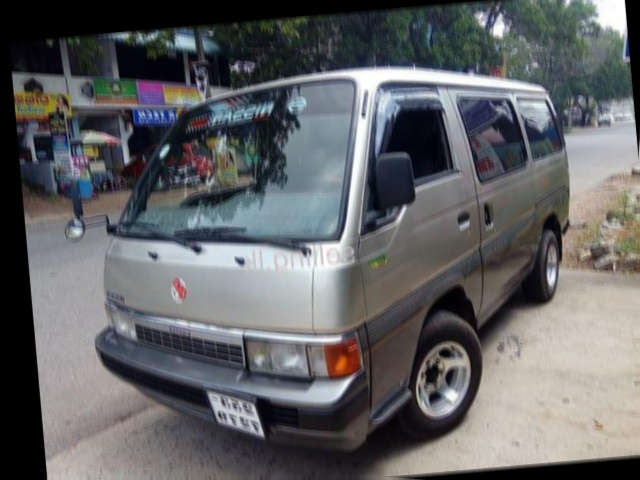van: (57, 59, 590, 466)
